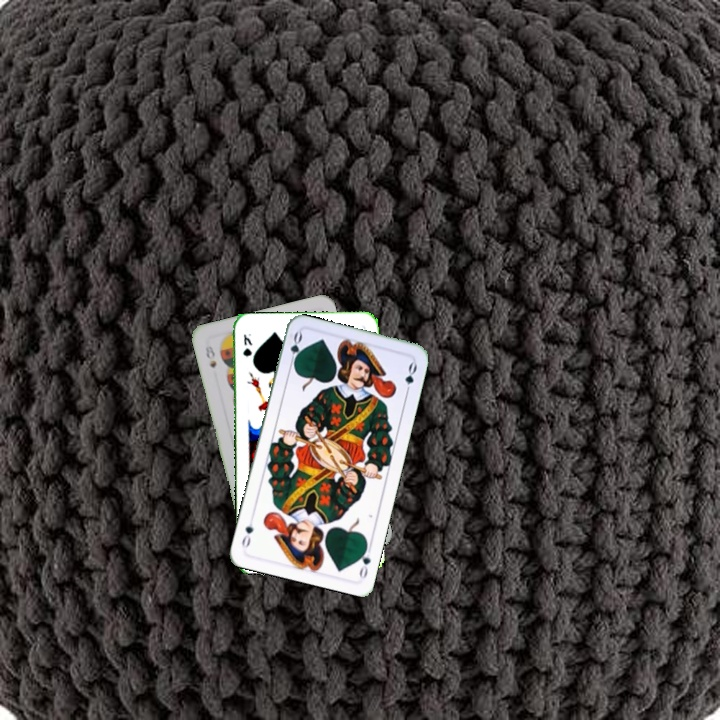GK: (239, 330, 255, 359)
GO: (286, 328, 305, 370), (355, 540, 374, 581)
S8: (201, 342, 219, 371)
